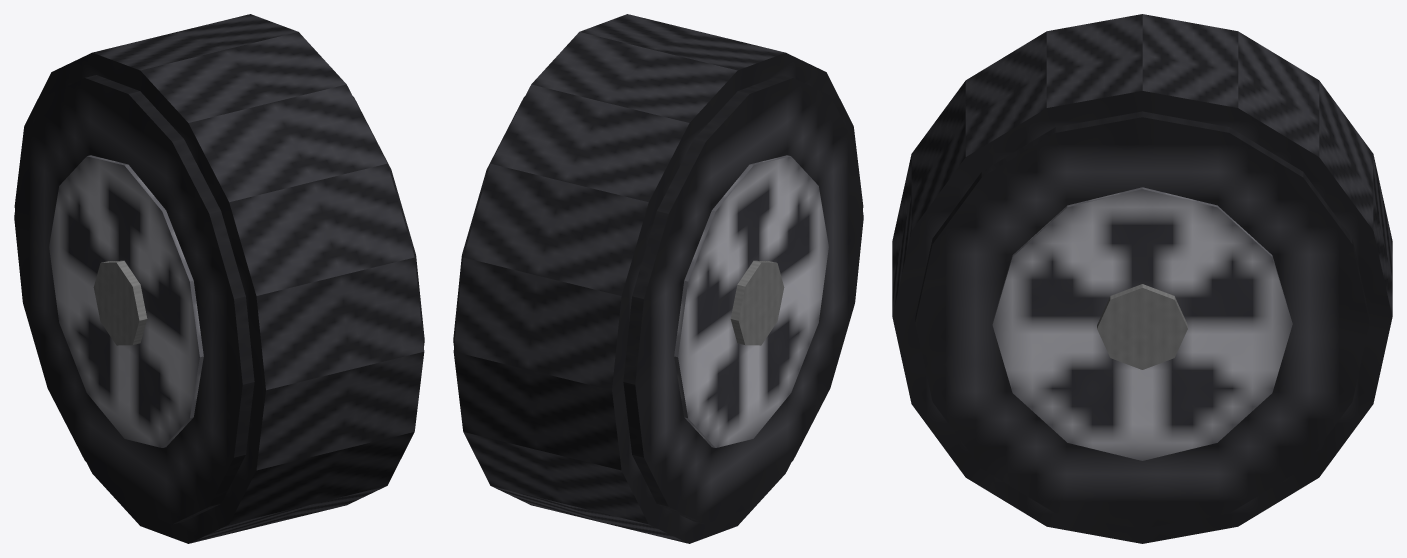
File: garbage_truck_wheel.obj
The picture shows the model from 3 angles, left to right: view 1: azimuth 30°, elevation 25°; view 2: azimuth 150°, elevation 25°; view 3: azimuth 270°, elevation 25°; orthographic projection.
Visible parts, largest first — view 1: tire, rim; view 2: tire, rim; view 3: tire, rim.
Boxes of the visible parts, box(x1,y1,x2,y2) form: tire: box(14, 14, 424, 543); rim: box(49, 155, 203, 447); tire: box(453, 14, 863, 543); rim: box(674, 155, 828, 447); tire: box(892, 14, 1392, 543); rim: box(992, 187, 1292, 460).
Bounding box in the file's own units: 0.52 × 1.1 × 1.1.
Materials: 1 (1 with a texture image).
